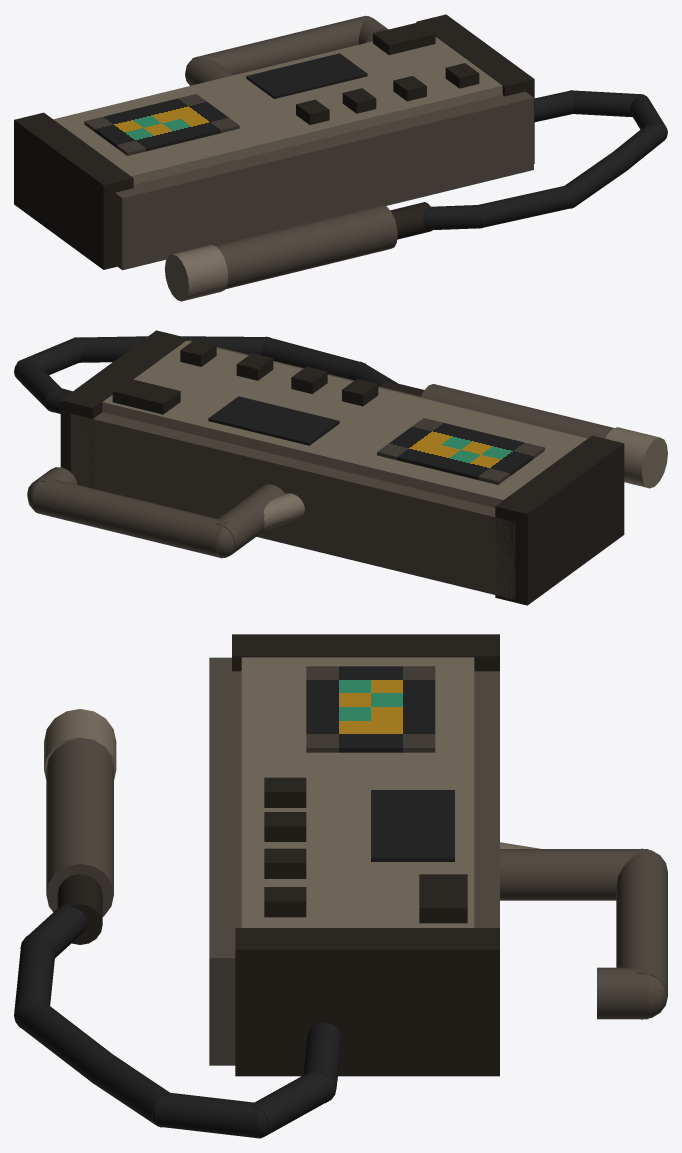
File: CMU3DUtilityRMCGeigerCounterCloud.glb
3 views of the same model, one above another, from view 1: azimuth 30°, elevation 25°; view 2: azimuth 150°, elevation 25°; view 3: azimuth 270°, elevation 25° (orthographic). The views are drawn at different scales.
Parts seen in each view (by area): view 1: thick brown geiger instrument body, front instrument face panel, left impact end cap, separate probe cylindrical body, original analog radiation gauge, top open carry handle section 2, right impact end cap, off black digital screen, probe tip, continuous instrument cable section 6, continuous instrument cable section 5, continuous instrument cable section 2 (+12 smaller); view 2: thick brown geiger instrument body, front instrument face panel, left impact end cap, top open carry handle section 2, original analog radiation gauge, right impact end cap, off black digital screen, separate probe cylindrical body, probe tip, top open carry handle section 1, continuous instrument cable section 6, top black rectangular control (+13 smaller); view 3: front instrument face panel, right impact end cap, thick brown geiger instrument body, original analog radiation gauge, separate probe cylindrical body, left impact end cap, top open carry handle section 1, top open carry handle section 2, off black digital screen, continuous instrument cable section 3, continuous instrument cable section 5, continuous instrument cable section 4 (+12 smaller).
Boxes of the visible parts, x1,y1,x2,y2 form: thick brown geiger instrument body: (115,91,533,270); front instrument face panel: (53,37,502,184); left impact end cap: (14,112,133,269); separate probe cylindrical body: (214,204,397,289); original analog radiation gauge: (84,94,239,155); top open carry handle section 2: (192,15,369,74); right impact end cap: (416,14,534,163); off black digital screen: (246,53,367,98); probe tip: (165,244,228,301); continuous instrument cable section 6: (476,185,577,228); continuous instrument cable section 5: (565,149,631,208); continuous instrument cable section 2: (569,90,642,117); thick brown geiger instrument body: (70,340,588,599); front instrument face panel: (102,340,587,507); left impact end cap: (495,435,624,605); top open carry handle section 2: (32,477,227,558); original analog radiation gauge: (377,418,544,484); right impact end cap: (60,330,188,488); off black digital screen: (208,396,339,445); separate probe cylindrical body: (421,384,614,438); probe tip: (605,427,667,488); top open carry handle section 1: (215,484,284,557); continuous instrument cable section 6: (262,336,365,379); top black rectangular control: (112,378,180,414); front instrument face panel: (241,657,474,927); right impact end cap: (235,928,499,1076); thick brown geiger instrument body: (209,657,499,1065); original analog radiation gauge: (306,666,435,752); separate probe cylindrical body: (46,739,113,916); left impact end cap: (232,634,499,671); top open carry handle section 1: (500,849,648,900); top open carry handle section 2: (616,848,667,1019); off black digital screen: (371,790,454,861); continuous instrument cable section 3: (155,1092,262,1138); continuous instrument cable section 5: (14,996,112,1083); continuous instrument cable section 4: (85,1051,169,1127).
Size of the model in its own units: 0.9269 by 0.151 by 0.6328.
5 materials, 1 textured.
